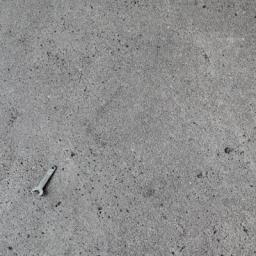FOD: (31, 164, 62, 200)
